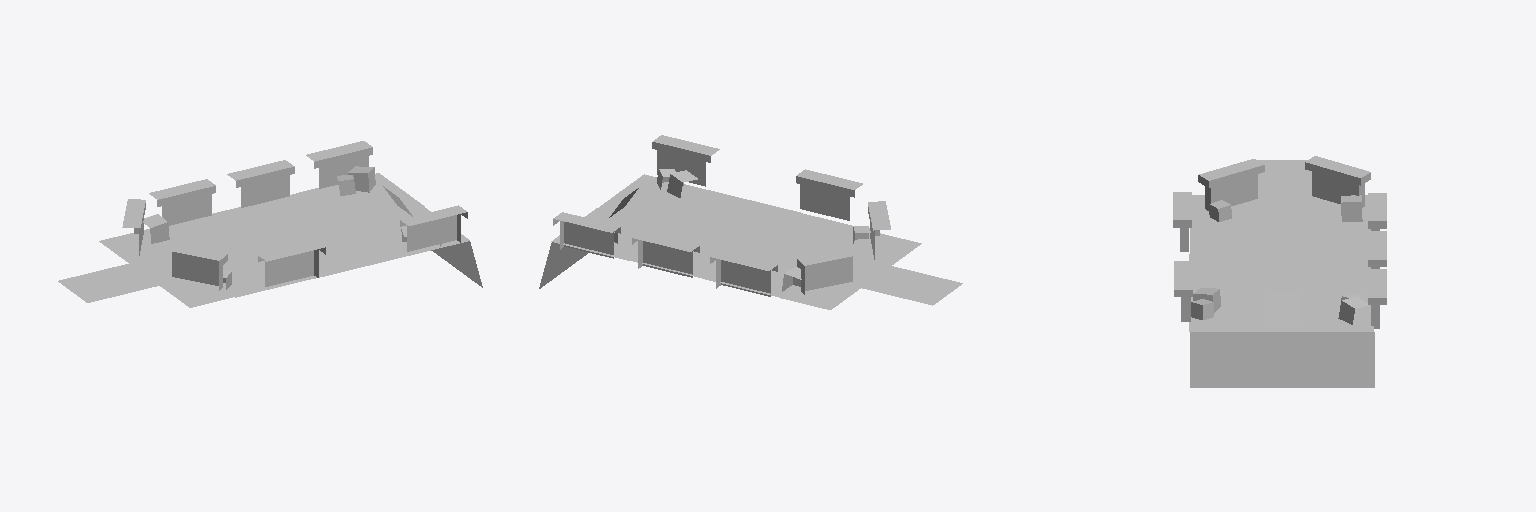
File: shipbow_bad.obj
3 views of the same model, side by side, from view 1: azimuth 30°, elevation 25°; view 2: azimuth 150°, elevation 25°; view 3: azimuth 270°, elevation 25° (orthographic).
Visible parts, largest first — view 1: Barricade.001, Plane.006, Plane.004, Plane.005, Plane.003, Plane.002, Plane.008, Barricade, Plane.001, Cube.003, Plane; view 2: Barricade.001, Plane.006, Plane.002, Plane.008, Plane.001, Barricade, Plane.005, Plane.004, Plane.003, Plane, Cube.003; view 3: Plane, Barricade.001, Plane.006, Plane.001, Plane.003, Plane.002, Plane.004, Plane.008, Plane.005, Cube.003, Plane.007, Barricade.
Part boxes in pixels (bbox=[...]): Barricade.001: bbox=[122, 141, 467, 290]; Plane.006: bbox=[58, 229, 233, 307]; Plane.004: bbox=[226, 192, 347, 243]; Plane.005: bbox=[299, 173, 424, 224]; Plane.003: bbox=[147, 210, 272, 254]; Plane.002: bbox=[266, 227, 389, 278]; Plane.008: bbox=[344, 207, 469, 259]; Barricade: bbox=[258, 241, 325, 286]; Plane.001: bbox=[223, 244, 310, 297]; Cube.003: bbox=[143, 166, 441, 289]; Plane: bbox=[431, 241, 482, 287]; Barricade.001: bbox=[553, 135, 890, 296]; Plane.006: bbox=[781, 233, 962, 309]; Plane.002: bbox=[678, 194, 800, 246]; Plane.008: bbox=[599, 174, 722, 227]; Plane.001: bbox=[756, 212, 869, 257]; Barricade: bbox=[796, 169, 862, 220]; Plane.005: bbox=[551, 208, 676, 260]; Plane.004: bbox=[632, 227, 748, 278]; Plane.003: bbox=[704, 245, 799, 297]; Plane: bbox=[539, 242, 587, 288]; Cube.003: bbox=[593, 169, 870, 291]; Plane: bbox=[1190, 332, 1374, 387]; Barricade.001: bbox=[1174, 156, 1386, 328]; Plane.006: bbox=[1192, 160, 1367, 217]; Plane.001: bbox=[1190, 217, 1282, 255]; Plane.003: bbox=[1282, 218, 1370, 257]; Plane.002: bbox=[1189, 254, 1281, 291]; Plane.004: bbox=[1281, 258, 1370, 293]; Plane.008: bbox=[1189, 292, 1281, 331]; Plane.005: bbox=[1282, 293, 1373, 331]; Cube.003: bbox=[1191, 195, 1368, 324]; Plane.007: bbox=[1265, 291, 1297, 321]; Barricade: bbox=[1173, 192, 1191, 251].
Bounding box in the file's own units: 14.72 × 3.37 × 7.48.